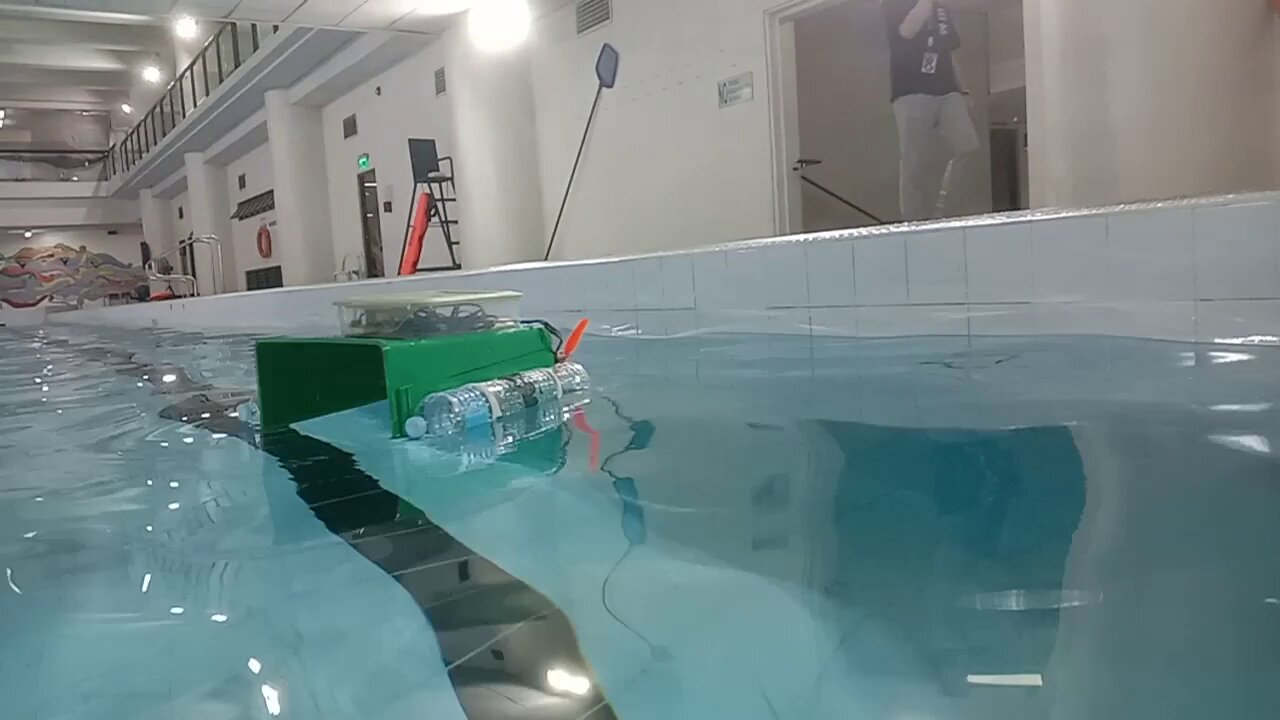drone: (234, 288, 593, 442)
